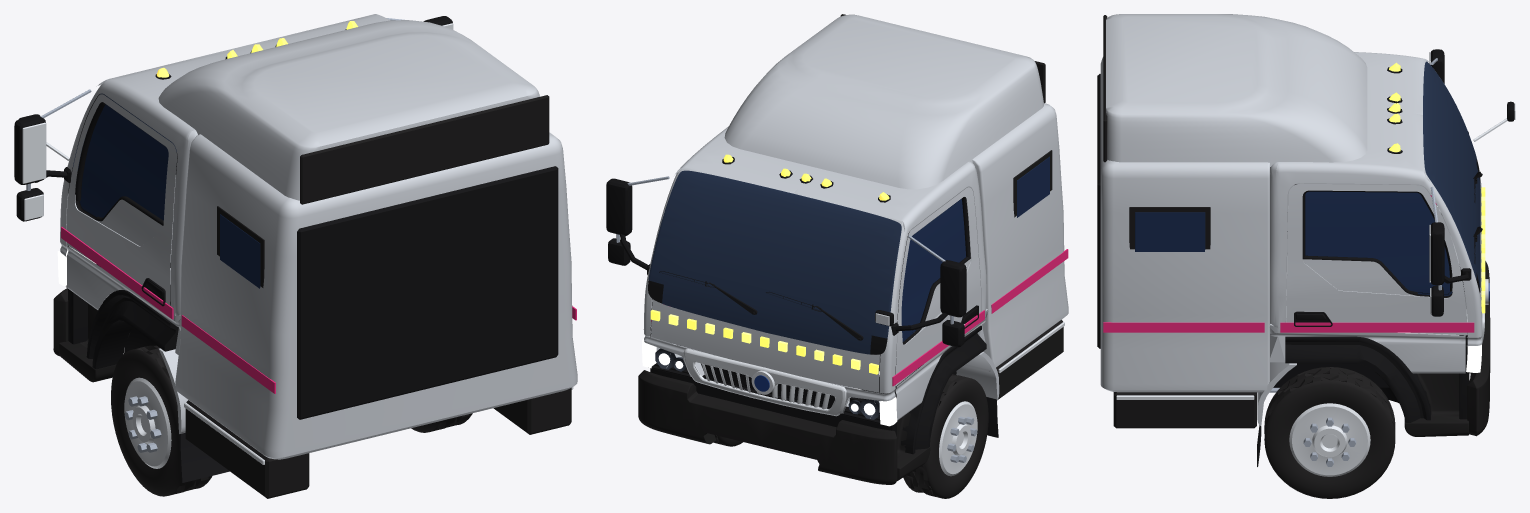
The model's file is cab_chata.glb.
The picture shows the model from 3 angles, left to right: view 1: azimuth 30°, elevation 25°; view 2: azimuth 150°, elevation 25°; view 3: azimuth 270°, elevation 25°; orthographic projection. The views are drawn at different scales.
Parts seen in each view (by area): view 1: truck_paint_white_panel, truck_plastic_black, truck_plastic_trim, truck_glass, wheel_f_L, truck_paint_pink, truck_chrome, truck_rubber; view 2: truck_paint_white_panel, truck_glass_wind, truck_plastic_trim, truck_plastic_black, wheel_f_L, truck_glass, truck_chrome, truck_paint_pink, truck_lamp_white, truck_lamp_amber, truck_glass_lens, truck_lamp_yellow; view 3: truck_paint_white_panel, wheel_f_R, truck_glass, truck_plastic_black, truck_plastic_trim, truck_glass_wind, truck_paint_pink, truck_chrome, truck_lamp_amber.
Boxes of the visible parts, box(x1,y1,x2,y2) form: truck_paint_white_panel: box(60, 14, 577, 459); truck_plastic_black: box(14, 16, 558, 419); truck_plastic_trim: box(53, 95, 571, 498); truck_glass: box(80, 104, 260, 288); wheel_f_L: box(111, 345, 212, 496); truck_paint_pink: box(61, 227, 576, 393); truck_chrome: box(22, 23, 573, 464); truck_rubber: box(180, 432, 229, 482); truck_paint_white_panel: box(643, 14, 1068, 420); truck_glass_wind: box(648, 170, 901, 354); truck_plastic_trim: box(638, 14, 1063, 484); truck_plastic_black: box(606, 157, 986, 454); wheel_f_L: box(903, 374, 988, 498); truck_glass: box(901, 156, 1049, 341); truck_chrome: box(629, 185, 1064, 418); truck_paint_pink: box(651, 249, 1068, 386); truck_lamp_white: box(642, 338, 897, 426); truck_lamp_amber: box(650, 154, 889, 374); truck_glass_lens: box(655, 348, 879, 419); truck_lamp_yellow: box(668, 314, 860, 370); truck_paint_white_panel: box(1100, 14, 1482, 425); wheel_f_R: box(1264, 367, 1395, 498); truck_glass: box(1135, 191, 1451, 295); truck_plastic_black: box(1097, 49, 1514, 422); truck_plastic_trim: box(1103, 15, 1490, 436); truck_glass_wind: box(1423, 61, 1480, 289); truck_paint_pink: box(1103, 195, 1474, 332); truck_chrome: box(1116, 52, 1515, 399); truck_lamp_amber: box(1388, 62, 1485, 313).
Bounding box in the file's own units: 3.33 × 3.18 × 3.19.
Materials: 15 (4 with a texture image).
